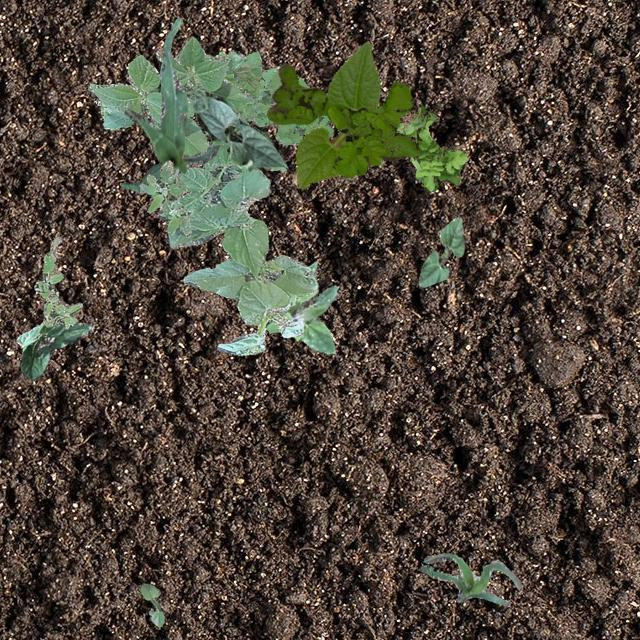crop: (157, 113, 316, 354), (86, 36, 252, 156), (120, 17, 218, 192), (294, 41, 380, 188), (192, 90, 286, 170), (420, 552, 520, 604), (15, 321, 91, 378), (418, 215, 464, 288), (140, 582, 164, 626), (214, 48, 244, 70)
weed: (266, 62, 418, 176), (222, 50, 332, 144), (266, 260, 336, 352), (394, 102, 466, 190), (32, 235, 82, 328), (138, 160, 194, 237)
